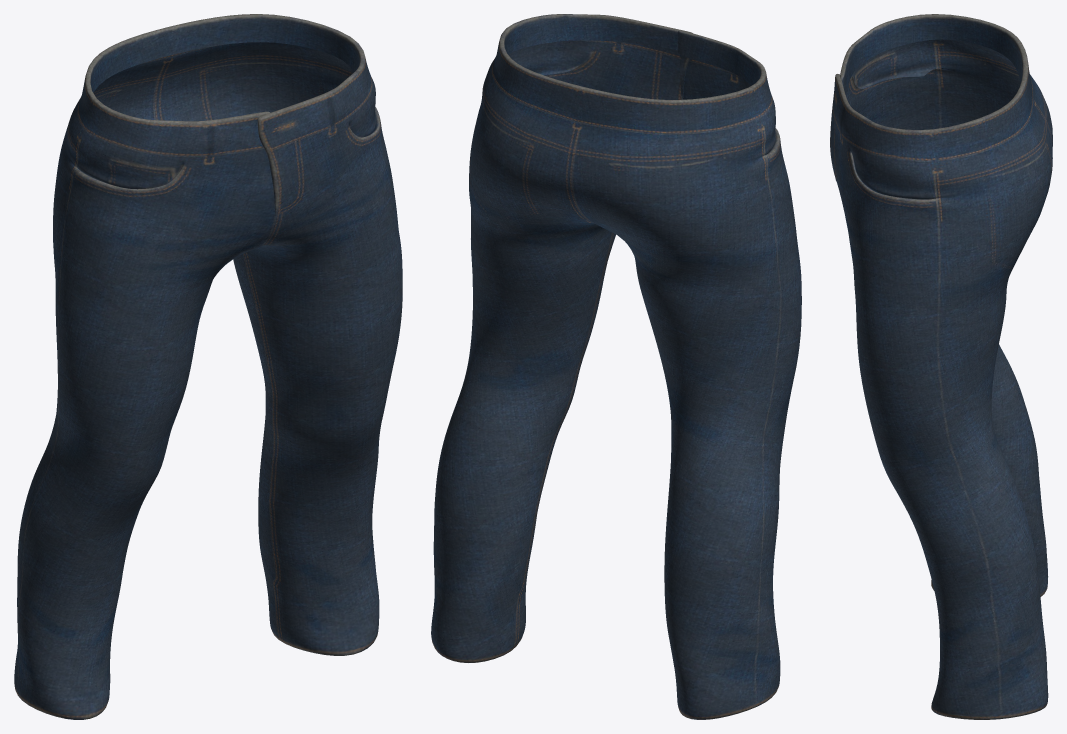
File: jeans.glb
3 renders of one model, left to right at view 1: azimuth 30°, elevation 25°; view 2: azimuth 150°, elevation 25°; view 3: azimuth 270°, elevation 25°, orthographic. The views are drawn at different scales.
Visible parts, largest first — view 1: Cube.004_Trousers3_0; view 2: Cube.004_Trousers3_0; view 3: Cube.004_Trousers3_0.
Part boxes in pixels (x1,y1,x2,y2): Cube.004_Trousers3_0: (14, 14, 402, 719); Cube.004_Trousers3_0: (431, 14, 801, 719); Cube.004_Trousers3_0: (830, 14, 1052, 719).
Bounding box in the file's own units: 0.5023 × 0.869 × 0.3014.
1 material, 1 textured.
